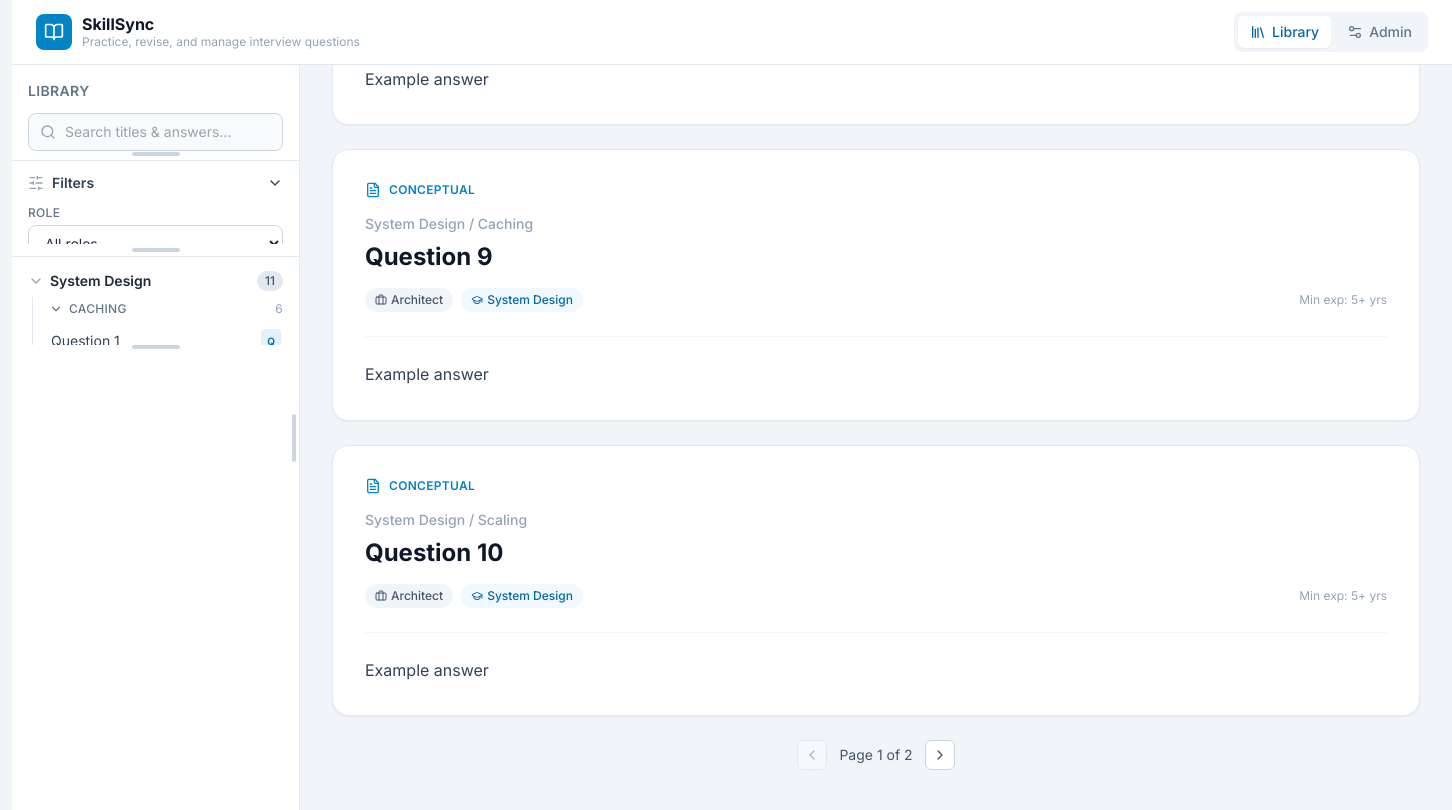
Test: App › renders pagination and moves to the next page
The width and height of the screenshot is (1452, 810).
(page scrolled)
Expected: the text "Page 1 of 2" is shown, [839, 745, 913, 765]
Click the button named "Next page" at (940, 755), box [925, 740, 955, 770]
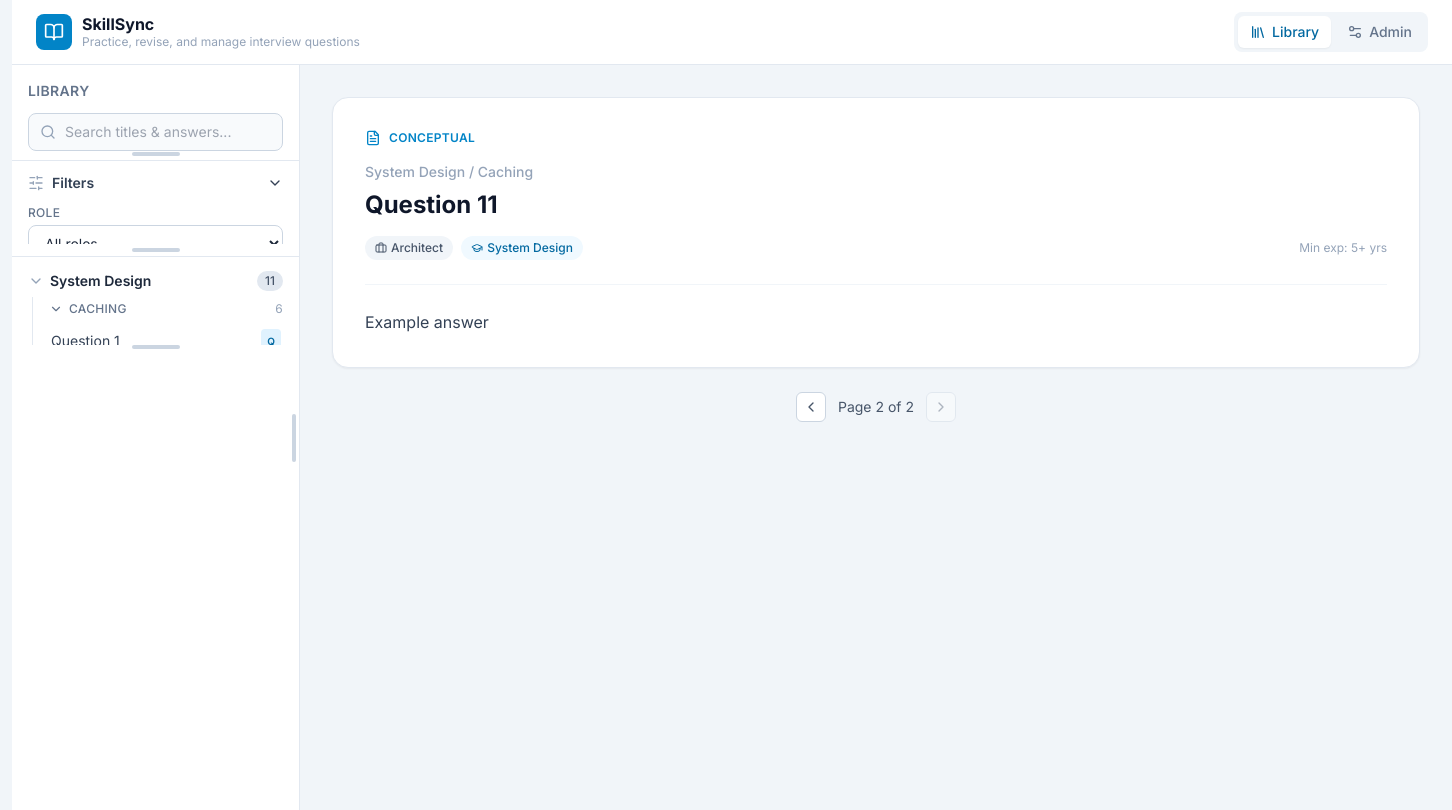
Expected: the heading "Question 11" is shown, [365, 190, 498, 219]
Expected: the text "Page 2 of 2" is shown, [838, 397, 914, 417]
